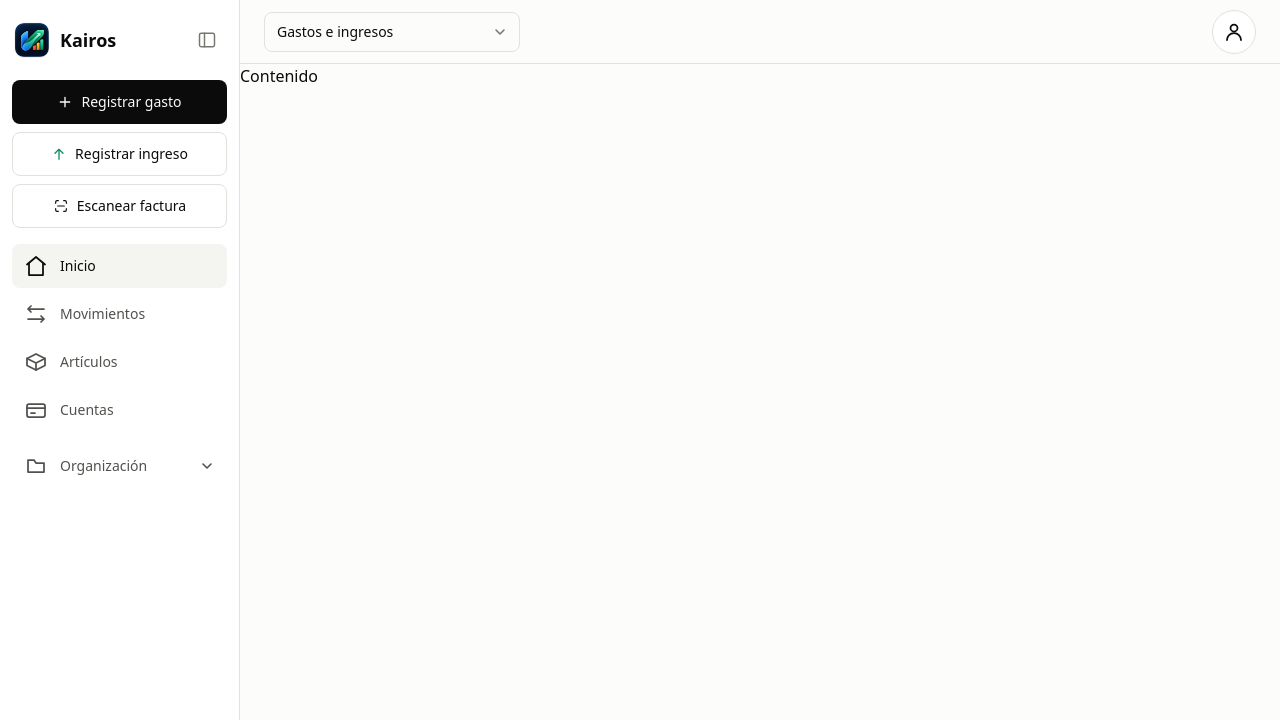
Test: AppLayout navigation › cambia entre finanzas e inversiones desde el selector de espacio
The width and height of the screenshot is (1280, 720).
Select "Inversiones" in the dropdown named "Cambiar espacio de trabajo": x=392, y=32 [264,12,520,52]
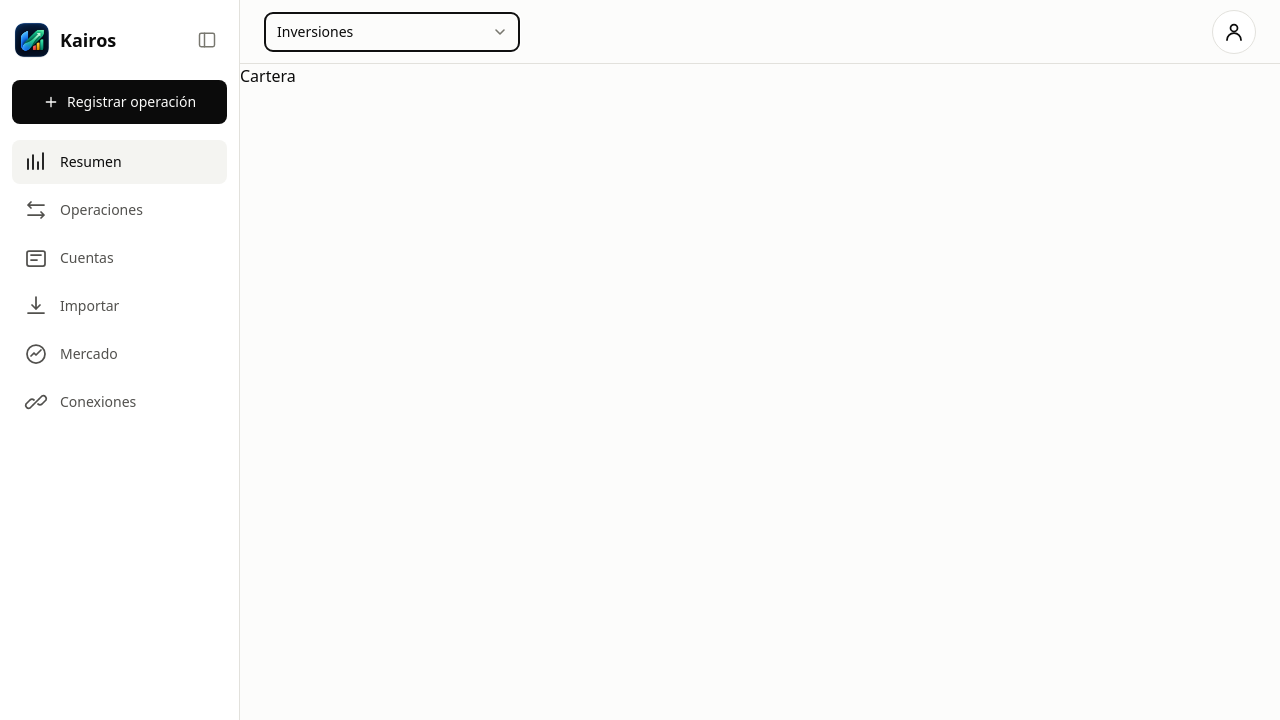
Expected: the text "Cartera" is shown, [240,65,296,87]
Expected: the link "Resumen" is shown, [12,140,227,184]
Expected: the link "Registrar gasto" is gone
